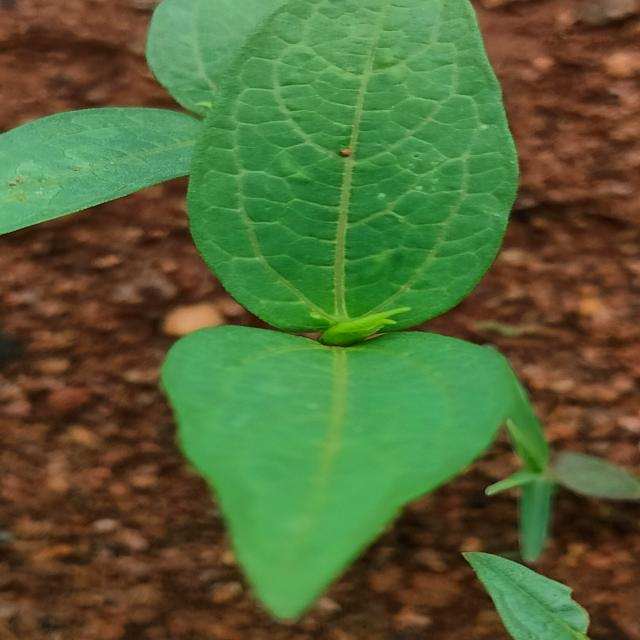Black gram_healthy: (164, 328, 544, 620), (193, 0, 514, 339)
